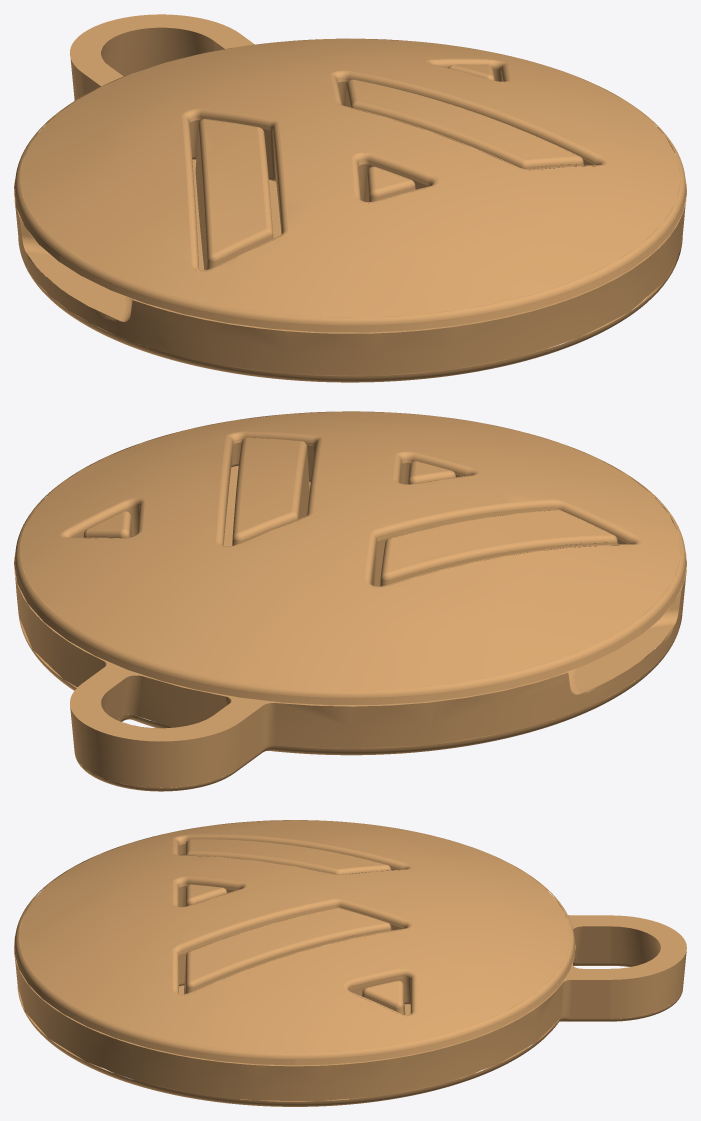
3 renders of one model, top to bottom at view 1: azimuth 30°, elevation 25°; view 2: azimuth 150°, elevation 25°; view 3: azimuth 270°, elevation 25°, orthographic. The views are drawn at different scales.
Parts seen in each view (by area): view 1: AnyConv.com__pendente 1 prova; view 2: AnyConv.com__pendente 1 prova; view 3: AnyConv.com__pendente 1 prova.
Part boxes in pixels (x1,y1,x2,y2): AnyConv.com__pendente 1 prova: [14, 14, 686, 382]; AnyConv.com__pendente 1 prova: [14, 411, 686, 791]; AnyConv.com__pendente 1 prova: [14, 820, 686, 1106].
Size of the model in its own units: 28 by 5.65 by 33.55.
